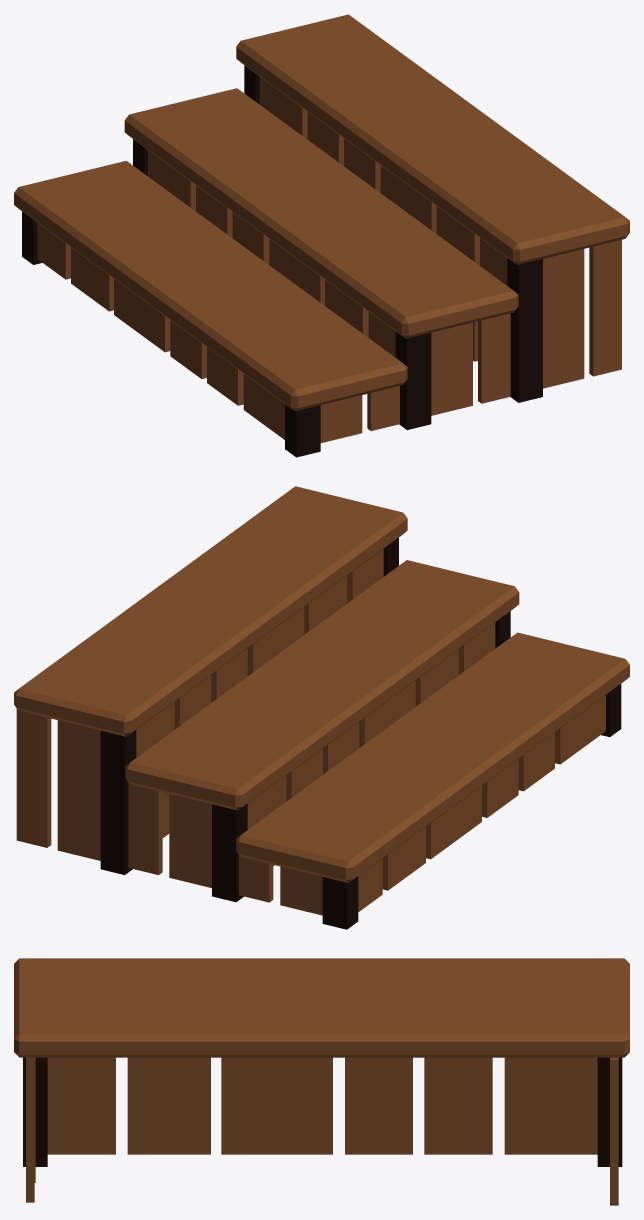
Rendered from ww_small_stairs.glb.
3 views of the same model, one above another, from view 1: azimuth 30°, elevation 25°; view 2: azimuth 150°, elevation 25°; view 3: azimuth 270°, elevation 25° (orthographic). The views are drawn at different scales.
Visible parts, largest first — view 1: Small_Stairs; view 2: Small_Stairs; view 3: Small_Stairs.
Part boxes in pixels (x1,y1,x2,y2): Small_Stairs: (14,14,629,457); Small_Stairs: (14,486,629,929); Small_Stairs: (14,958,629,1205).
Bounding box in the file's own units: 1.1 × 0.5015 × 1.58.
